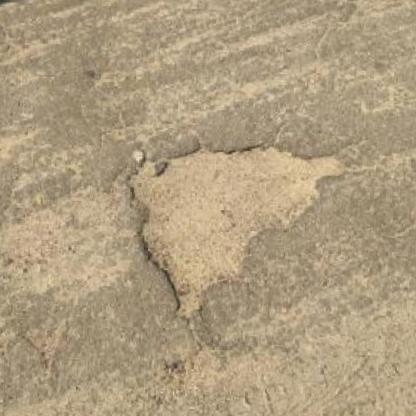pothole: (112, 135, 349, 325)
